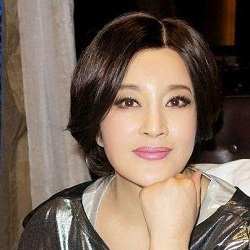unmask: (91, 48, 203, 188)
